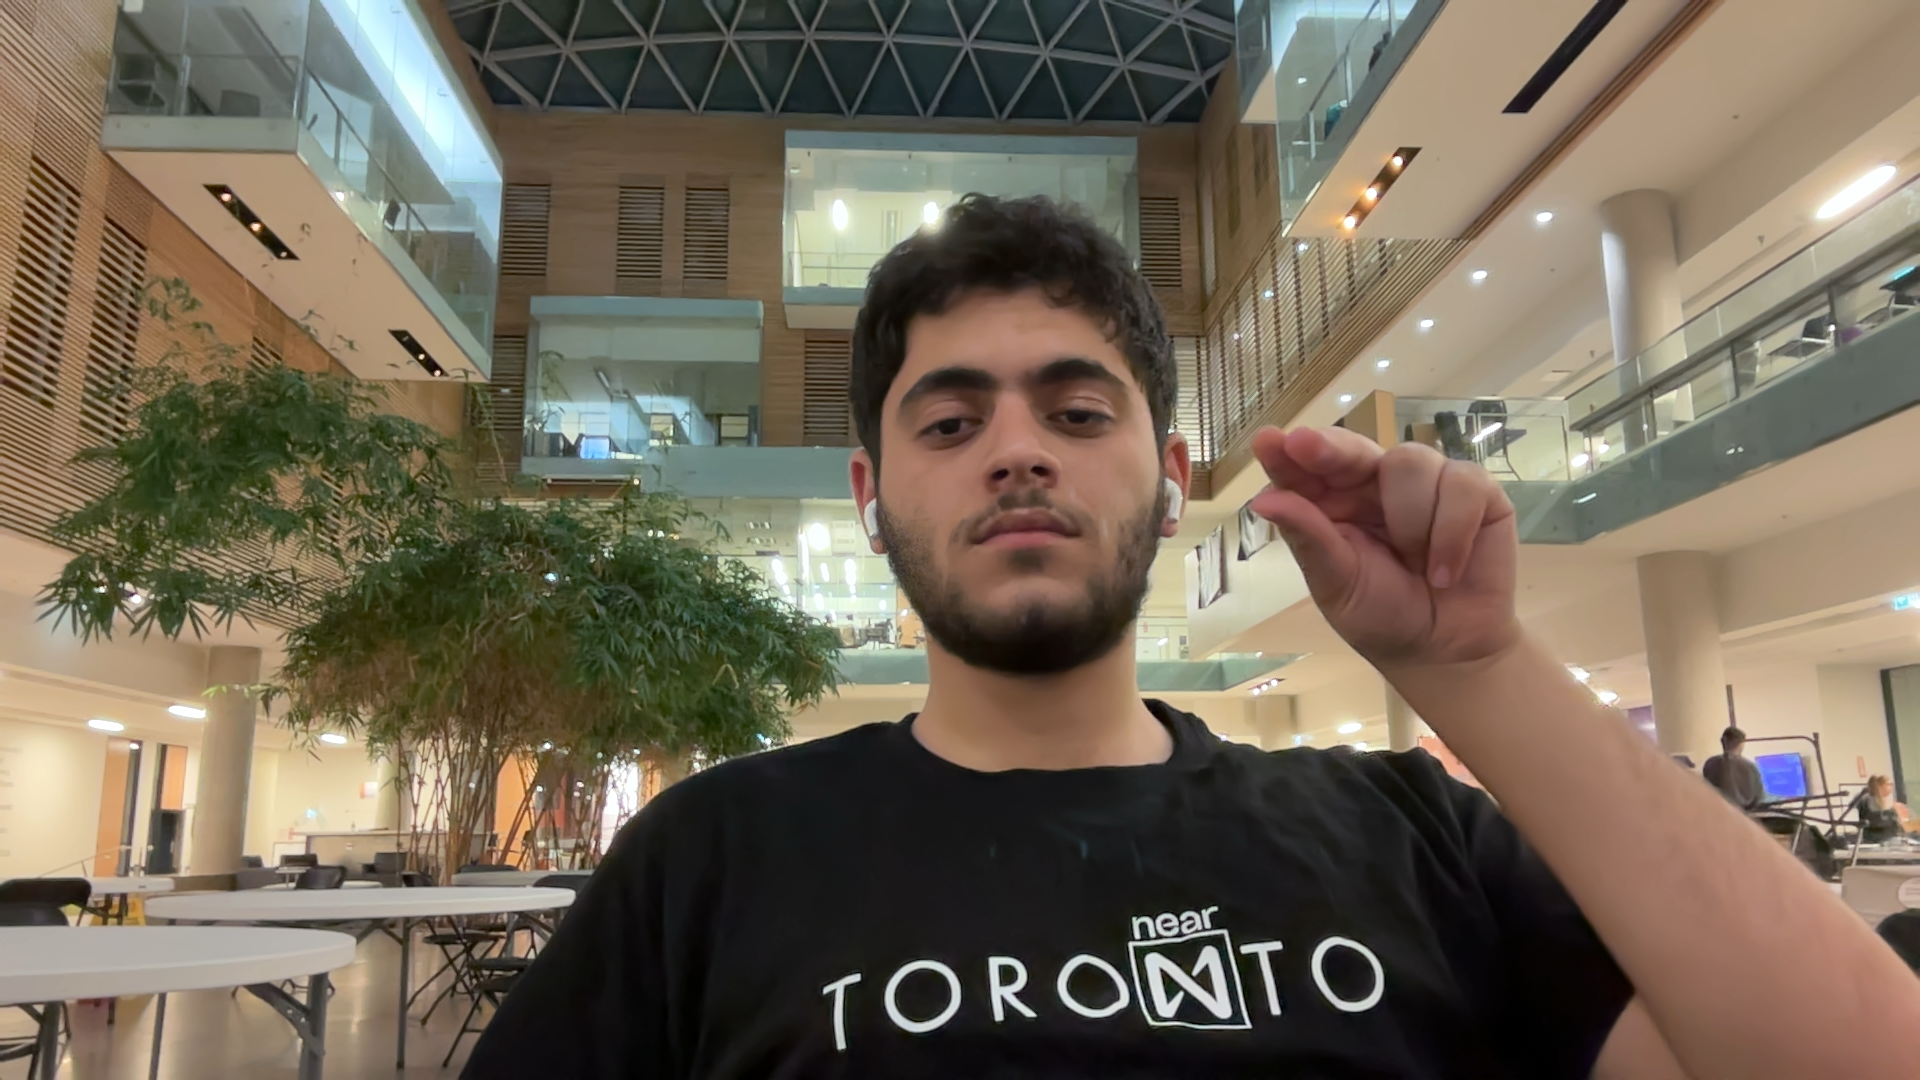no: (1229, 377, 1588, 702)
